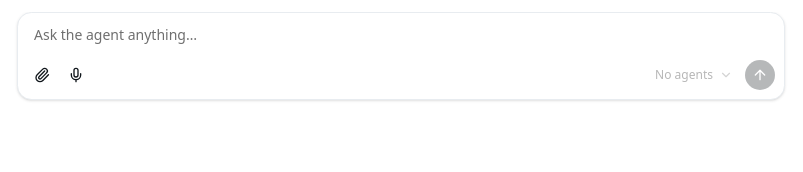
Test: Composer @-file-mention browser (native sessions) › Tab attaches the highlighted folder as a whole-directory unit
Step 1. Type "@" into the text box named "Message the agent" → (401, 33), box [18,13,784,53]
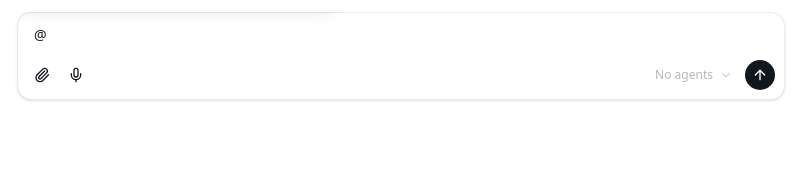
Step 2. Press Tab in the text box named "Message the agent", box [18,13,784,53]
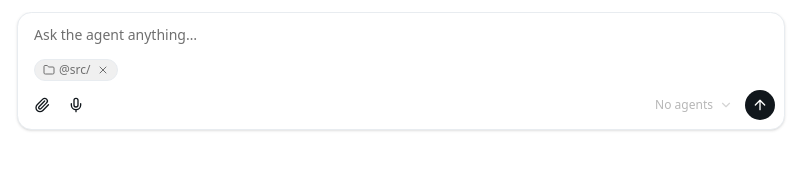
Check: the text "@src/" is shown, box [59,62,90,78]
